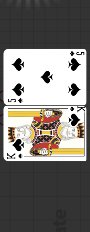5C: (68, 51, 85, 58)
